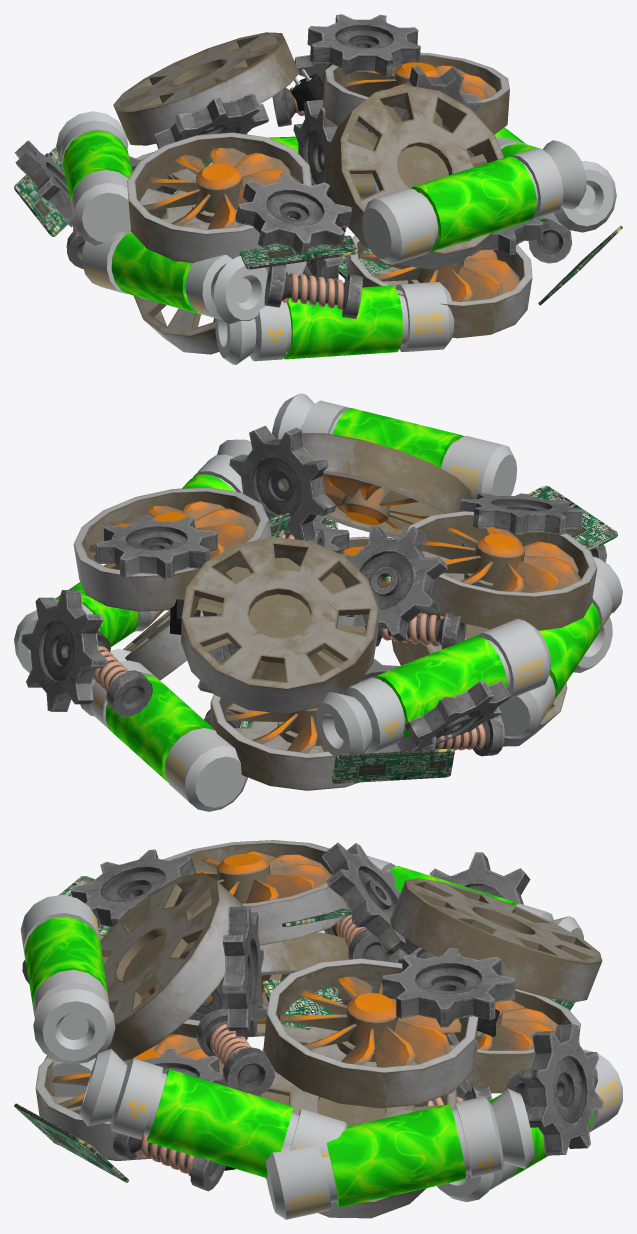
File: ScrapPile.fbx
3 renders of one model, top to bottom at view 1: azimuth 30°, elevation 25°; view 2: azimuth 150°, elevation 25°; view 3: azimuth 270°, elevation 25°, orthographic. The views are drawn at different scales.
Parts seen in each view (by area): view 1: ScrapPile; view 2: ScrapPile; view 3: ScrapPile.
Part boxes in pixels (left/top/right/bottom): ScrapPile: left=14, top=14, right=622, bottom=364; ScrapPile: left=14, top=393, right=622, bottom=811; ScrapPile: left=14, top=840, right=622, bottom=1219.
Size of the model in its own units: 97.51 by 46.01 by 97.47.
Materials: 1 (1 with a texture image).
